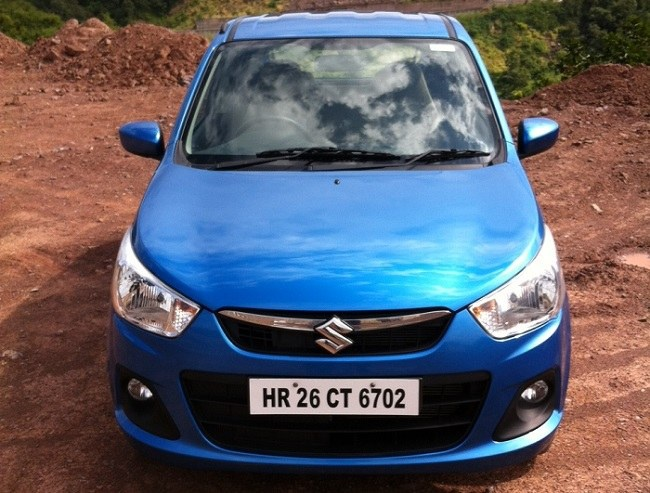plate: (233, 371, 427, 430)
